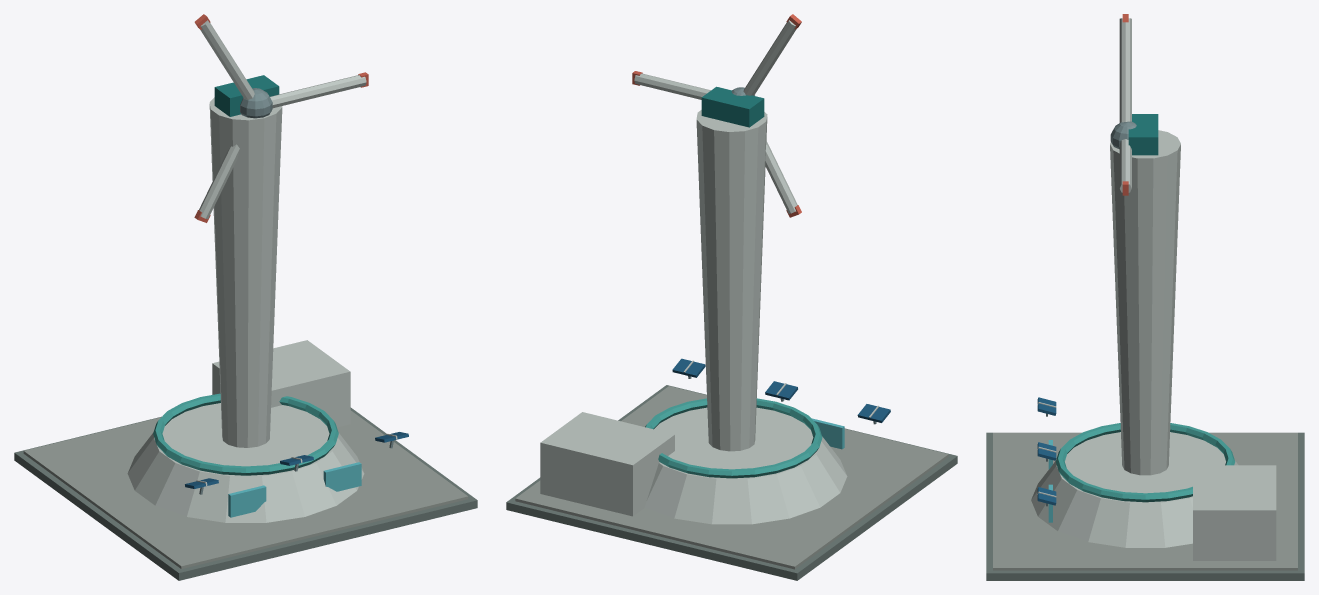
File: wind_lv4.glb
3 views of the same model, side by side, from view 1: azimuth 30°, elevation 25°; view 2: azimuth 150°, elevation 25°; view 3: azimuth 270°, elevation 25° (orthographic). The views are drawn at different scales.
Parts seen in each view (by area): view 1: rough, glossy, metallic; view 2: rough, metallic, glossy; view 3: rough, metallic.
Part boxes in pixels (left/top/right/bottom): rough: left=14, top=14, right=477, bottom=580; glossy: left=228, top=462, right=361, bottom=517; metallic: left=185, top=88, right=408, bottom=494; rough: left=506, top=14, right=957, bottom=580; metallic: left=672, top=87, right=890, bottom=424; glossy: left=811, top=418, right=844, bottom=449; rough: left=986, top=14, right=1304, bottom=580; metallic: left=1037, top=121, right=1136, bottom=506.
Bounding box in the file's own units: 8.8 × 13.76 × 8.4.
